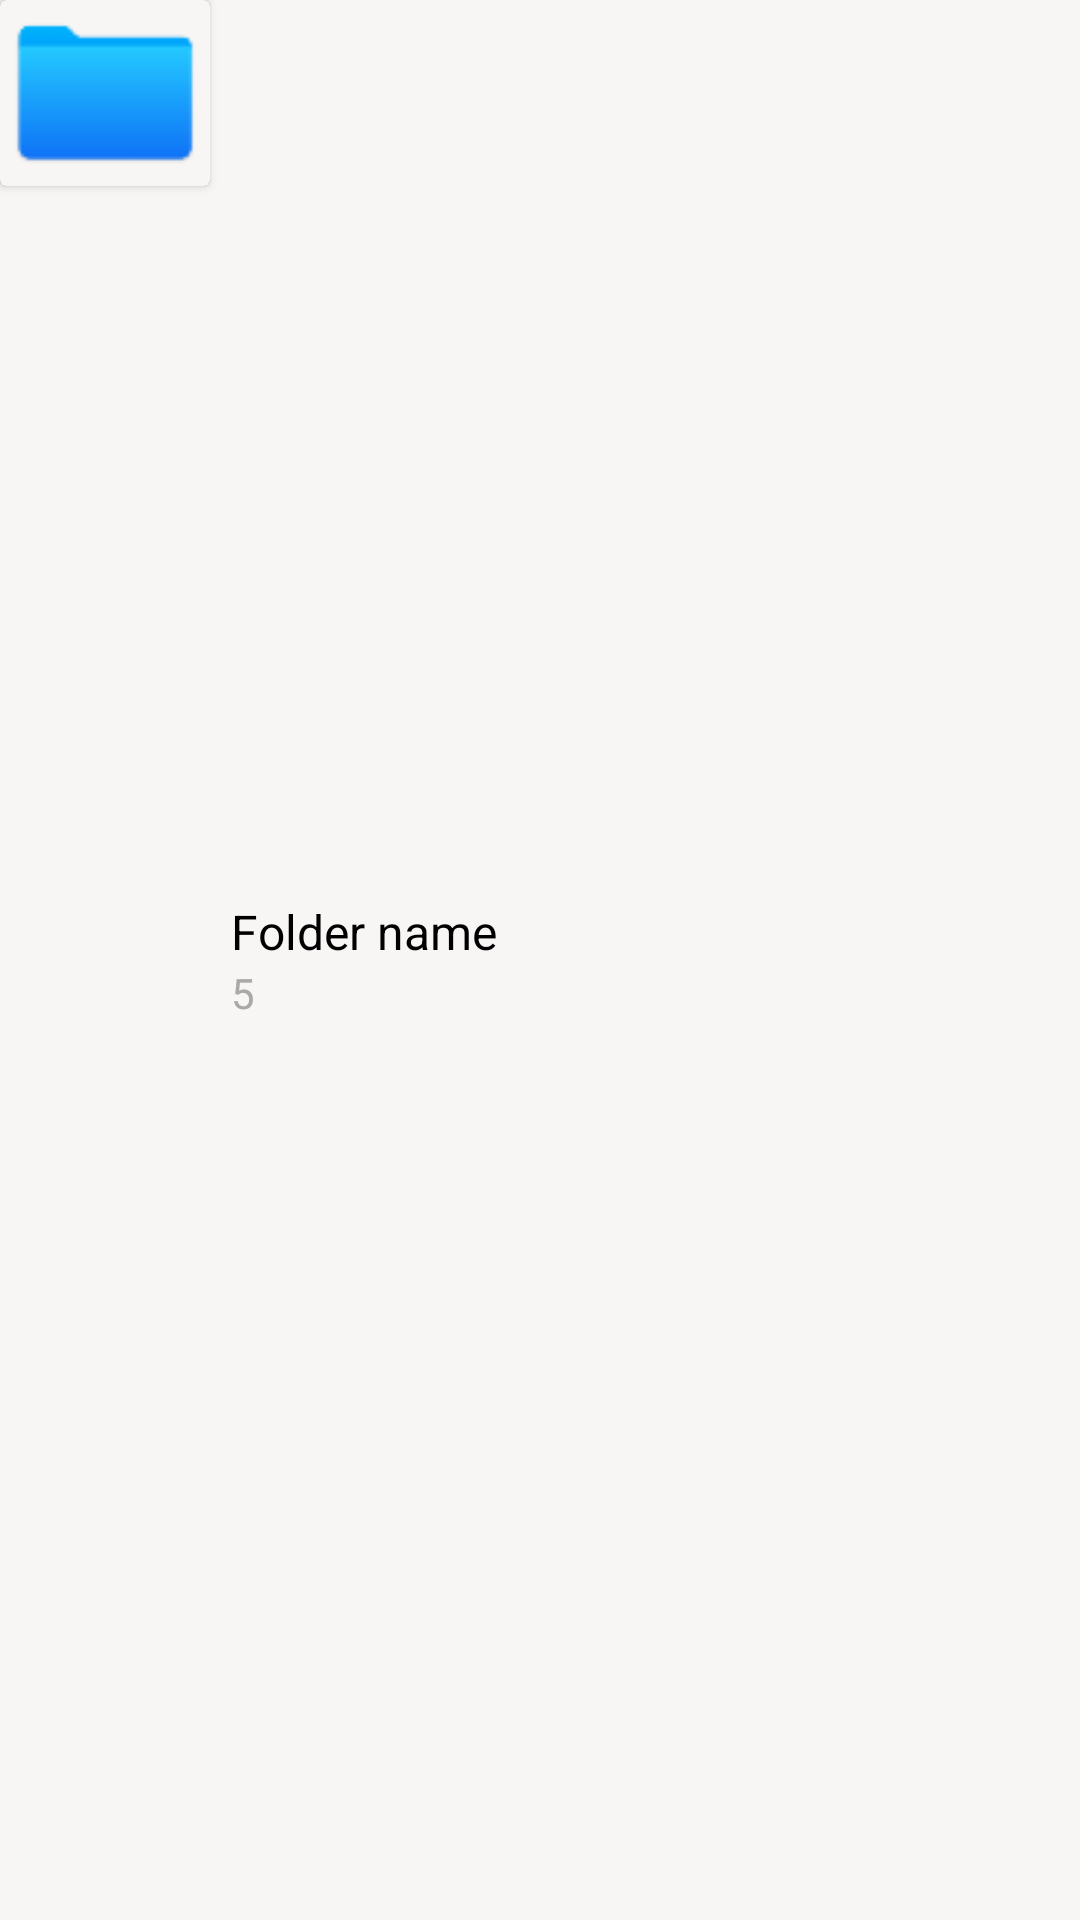

Named icons in this screenshot (1080 x 1920) and their centers, (x=x, y=y):
folder: (x=105, y=93)
